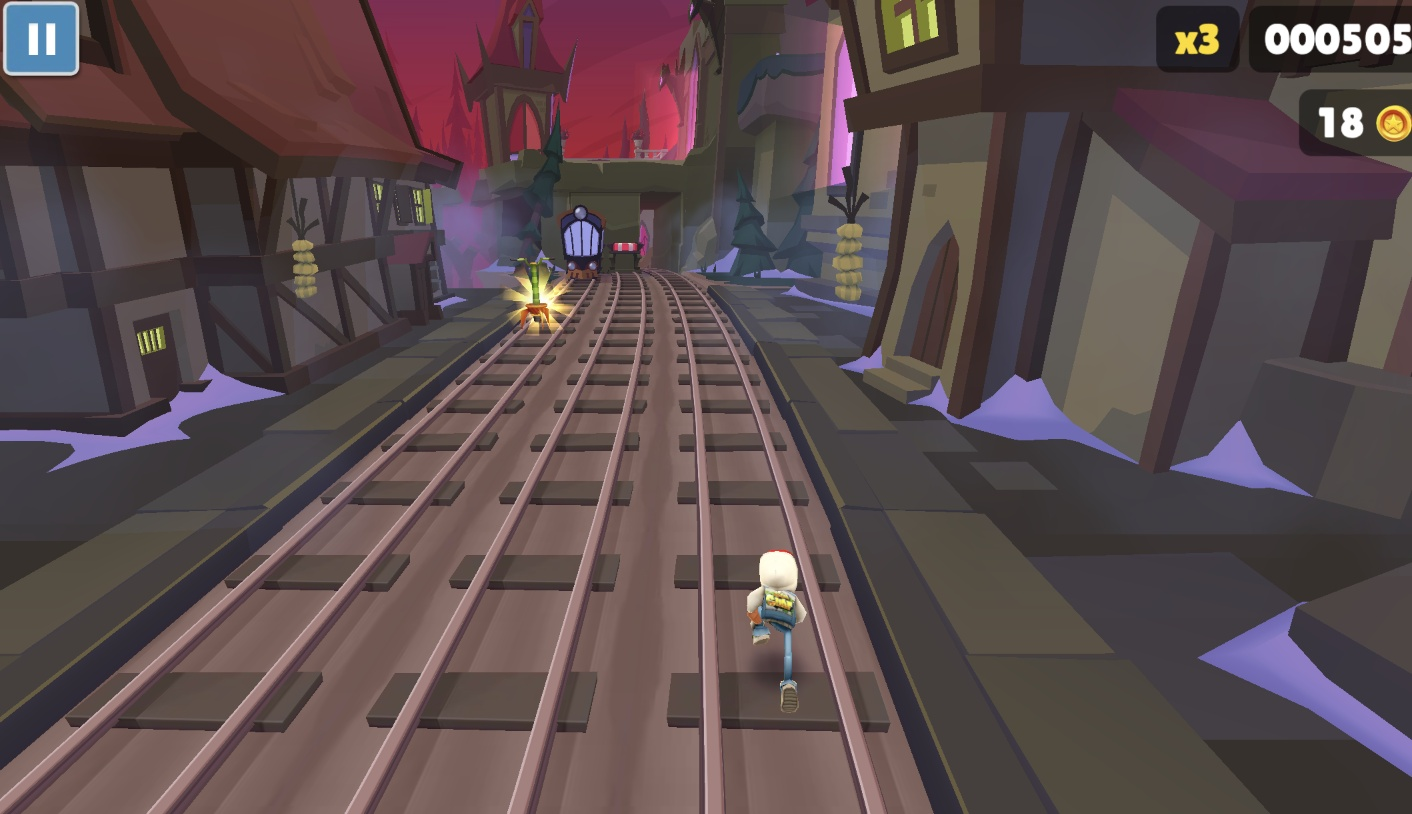ground_barrier: (602, 245, 643, 273)
train: (554, 205, 606, 286)
